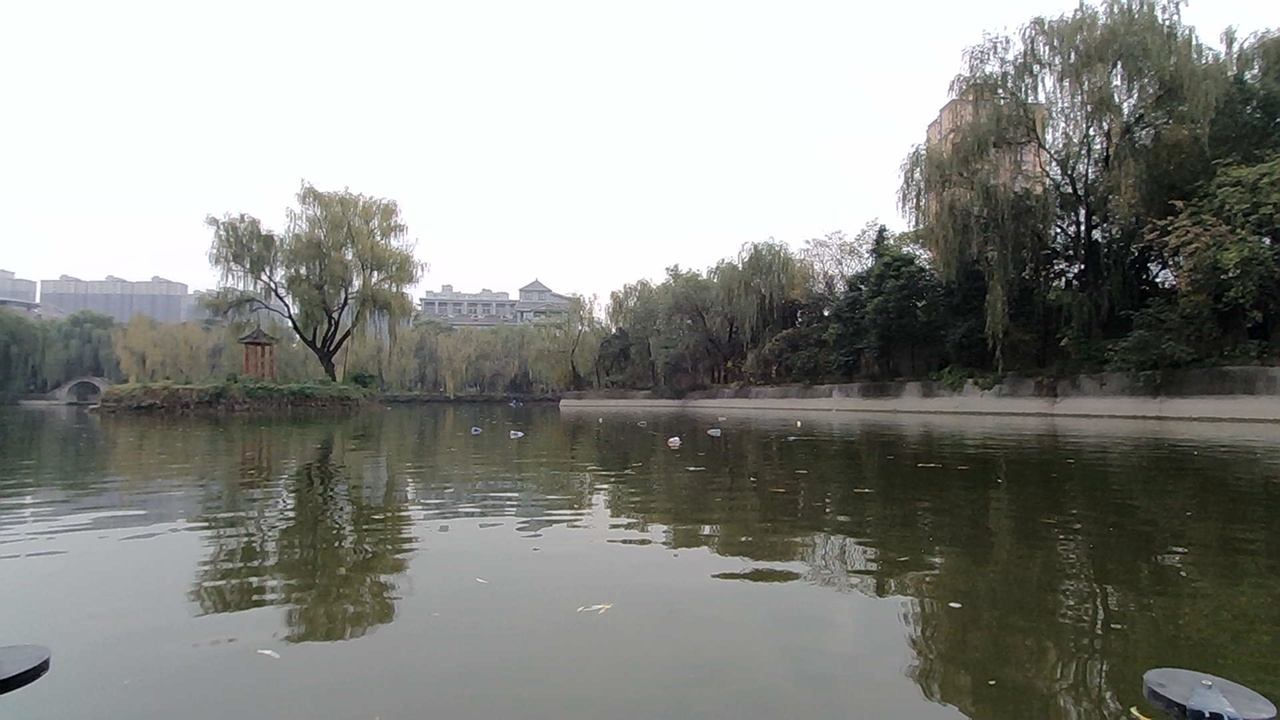bottle: (466, 410, 498, 445), (783, 410, 815, 440), (505, 418, 532, 445), (632, 409, 661, 432), (589, 403, 614, 424), (663, 431, 687, 450), (704, 420, 728, 437)
